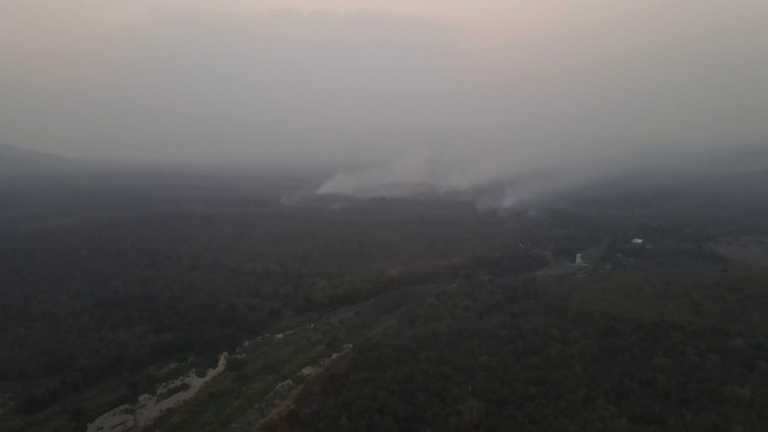smoke: (308, 125, 548, 217)
